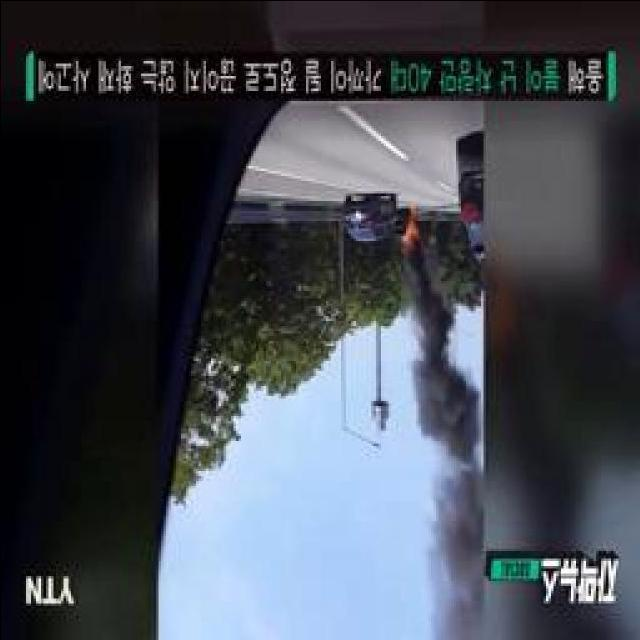Fire: (400, 210, 422, 245)
